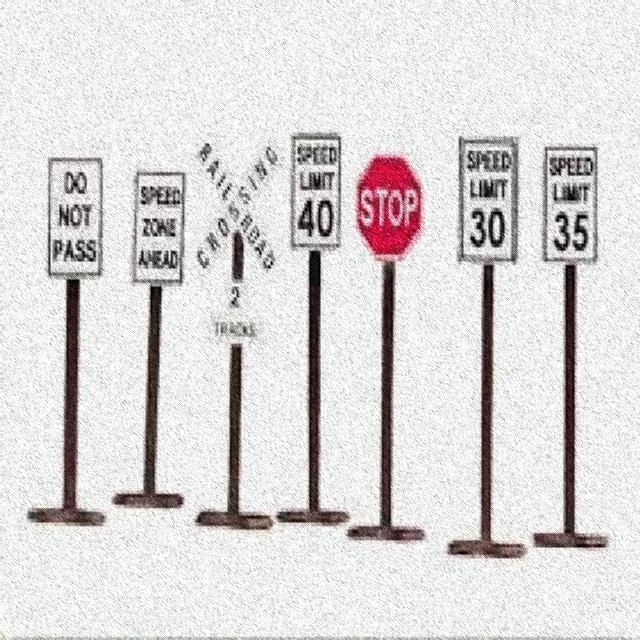speedLimit35: (544, 147, 594, 261)
